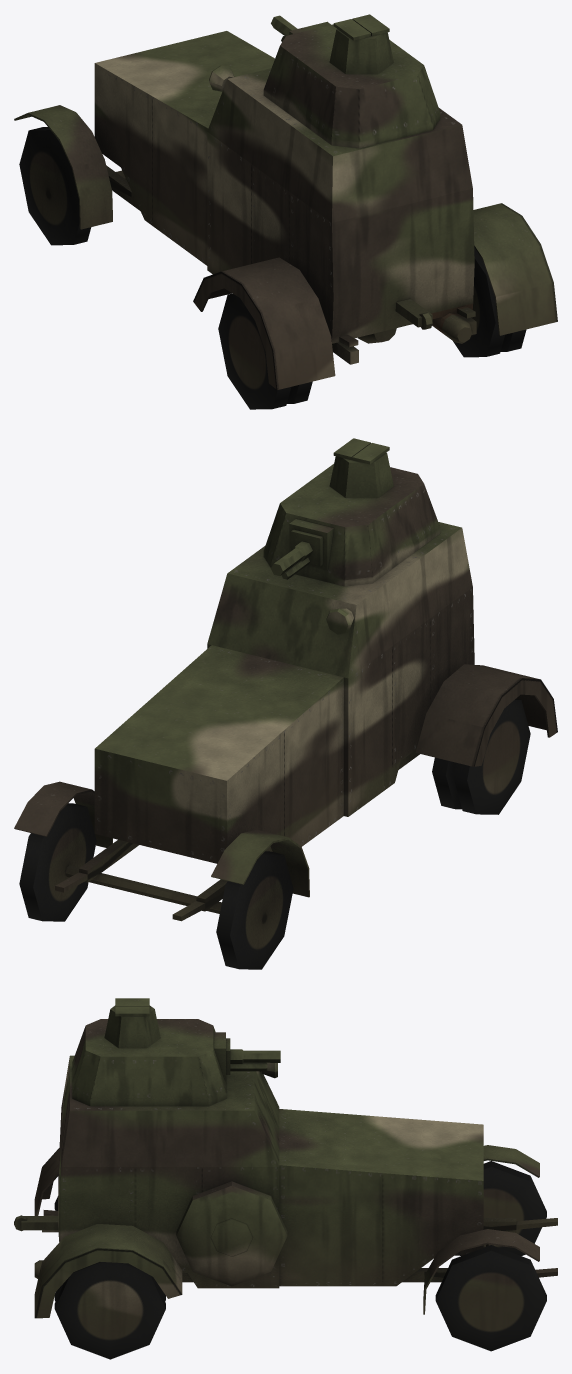
The model's file is WZ34_37_MID.fbx.
3 renders of one model, top to bottom at view 1: azimuth 30°, elevation 25°; view 2: azimuth 150°, elevation 25°; view 3: azimuth 270°, elevation 25°, orthographic. The views are drawn at different scales.
Parts seen in each view (by area): view 1: Chassis, Tourelle_01, Roue_02, Roue_Gauche_01; view 2: Chassis, Tourelle_01, Roue_Gauche_01, Roue_02, Roue_Droite_01, Axe_Canon_01, Canon_01; view 3: Chassis, Tourelle_01, Roue_Droite_01, Roue_02, Roue_Gauche_01, Axe_Canon_01, Canon_01.
Boxes of the visible parts, <box> form: Chassis: <box>14,31,557,389</box>; Tourelle_01: <box>263,14,440,148</box>; Roue_02: <box>218,247,526,409</box>; Roue_Gauche_01: <box>19,127,91,245</box>; Chassis: <box>14,522,557,921</box>; Tourelle_01: <box>263,438,440,586</box>; Roue_Gauche_01: <box>216,851,293,969</box>; Roue_02: <box>432,698,530,814</box>; Roue_Droite_01: <box>19,803,96,921</box>; Axe_Canon_01: <box>281,519,333,579</box>; Canon_01: <box>271,541,312,575</box>; Chassis: <box>14,1055,557,1318</box>; Tourelle_01: <box>72,998,226,1106</box>; Roue_Droite_01: <box>435,1245,546,1351</box>; Roue_02: <box>54,1196,165,1359</box>; Roue_Gauche_01: <box>460,1161,546,1255</box>; Axe_Canon_01: <box>214,1032,267,1080</box>; Canon_01: <box>230,1049,280,1063</box>.
Size of the model in its own units: 191 by 367 by 224.
Materials: 1 (1 with a texture image).
